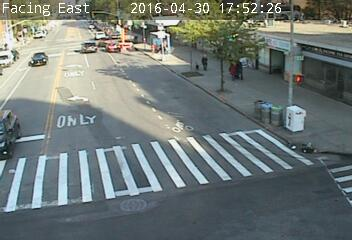neg: (282, 57, 316, 102), (126, 86, 156, 126), (314, 54, 341, 90), (104, 79, 129, 112), (77, 73, 98, 101), (160, 99, 181, 127), (59, 22, 79, 50), (327, 19, 347, 46), (235, 21, 254, 46), (232, 98, 251, 122), (307, 24, 325, 48), (275, 102, 292, 124), (171, 32, 187, 54), (189, 12, 204, 32), (263, 27, 277, 46), (154, 32, 167, 50), (260, 105, 273, 122), (50, 23, 62, 39), (275, 69, 286, 85), (35, 25, 46, 40), (290, 36, 300, 49), (156, 14, 166, 27)
pos: (234, 58, 249, 78), (220, 60, 234, 78), (198, 51, 211, 68), (131, 33, 139, 44)
